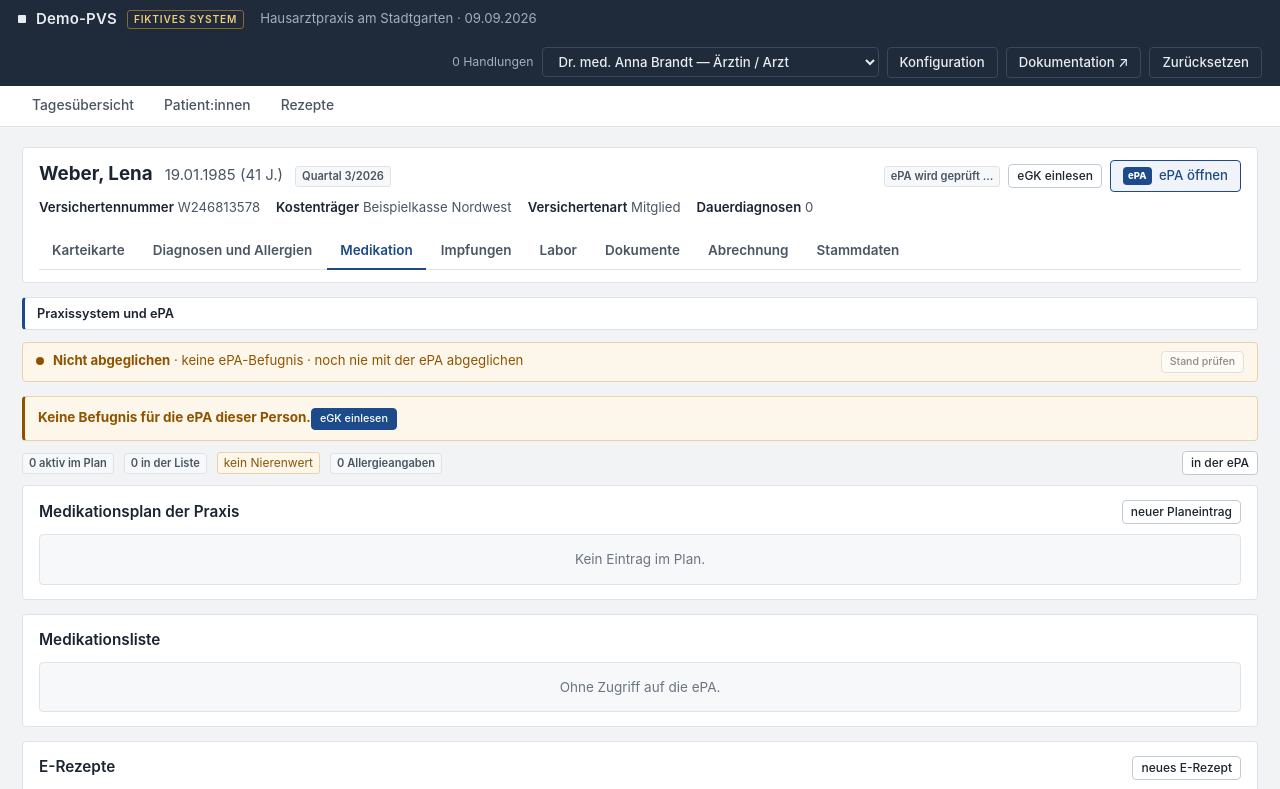
Medikationsplan der Praxis ohne Akte › öffnet „Neuer Planeintrag" erst auf Knopfdruck und beginnt danach wieder leer
Expected: the dropdown labelled "Arzneimittel suchen" is not shown
Click the button "neuer Planeintrag".
click(1181, 512)  # box [1122, 500, 1241, 524]
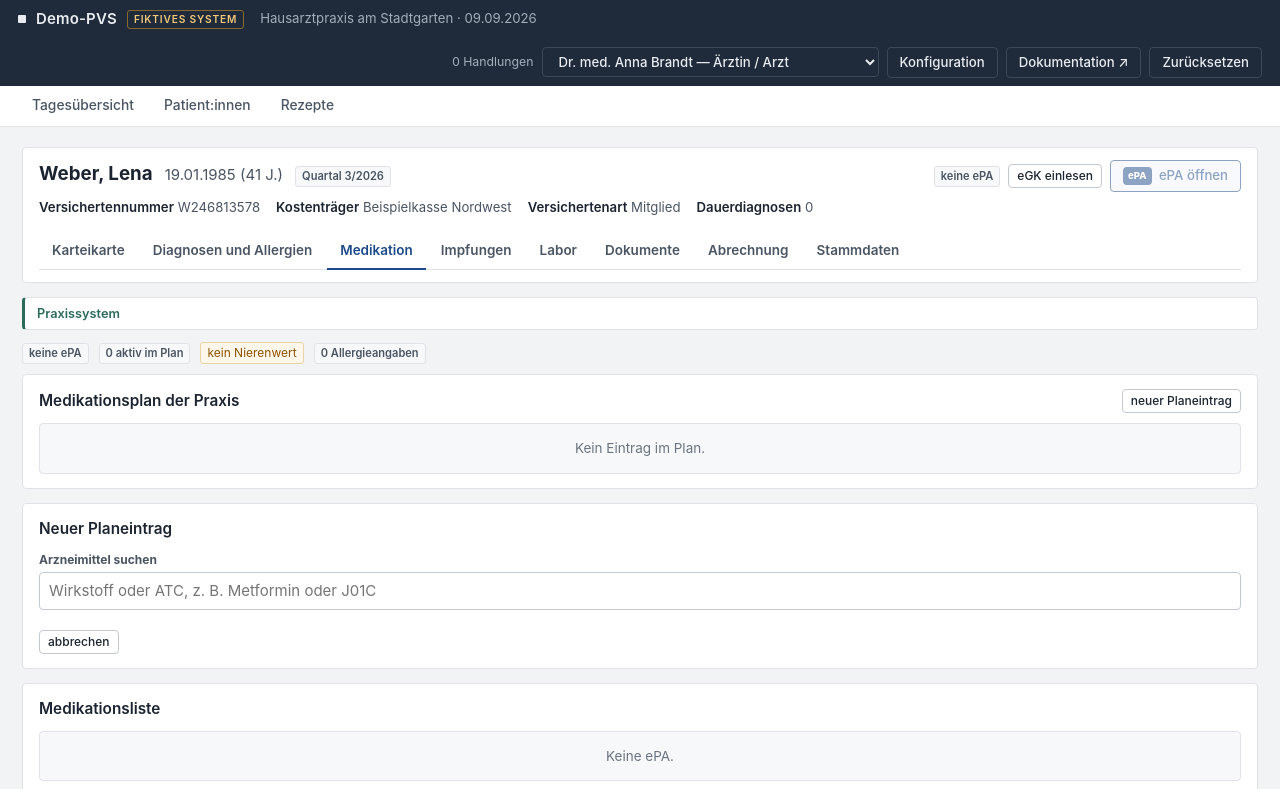
Type "Ramipril 5" into the dropdown labelled "Arzneimittel suchen".
click(640, 591); type("Ramipril 5")  # box [39, 572, 1241, 610]
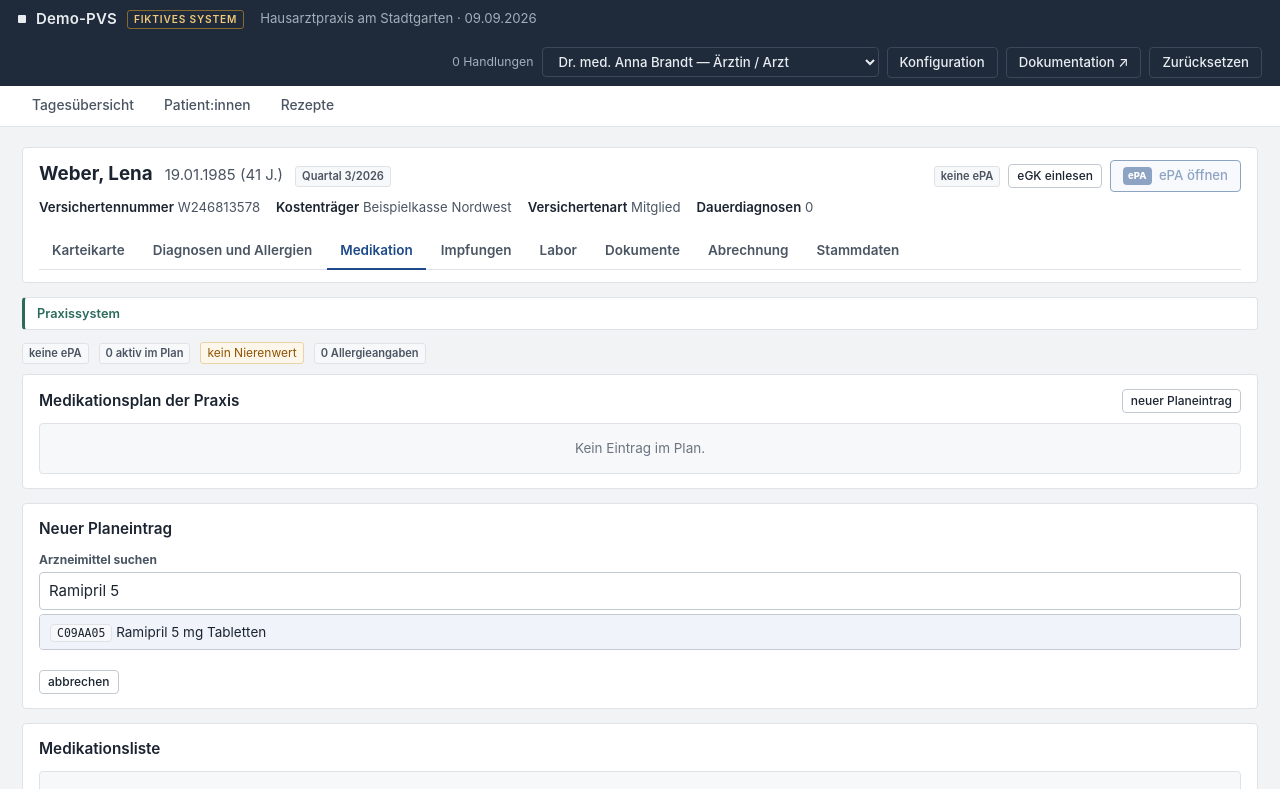
Click the option "C09AA05 Ramipril 5 mg Tabletten".
click(81, 633)  # box [40, 615, 1240, 649]
(page scrolled)
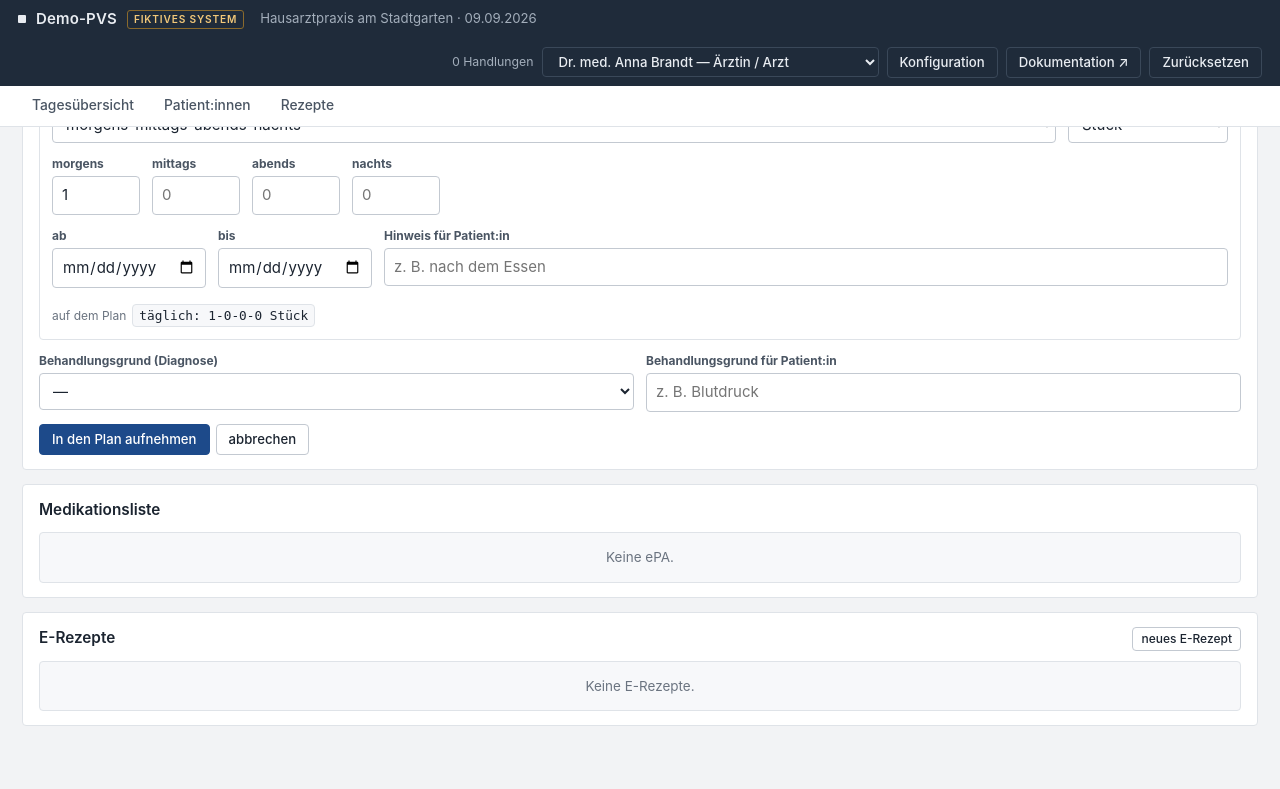
Click the button "In den Plan aufnehmen".
click(124, 440)  # box [39, 424, 210, 455]
(page scrolled)
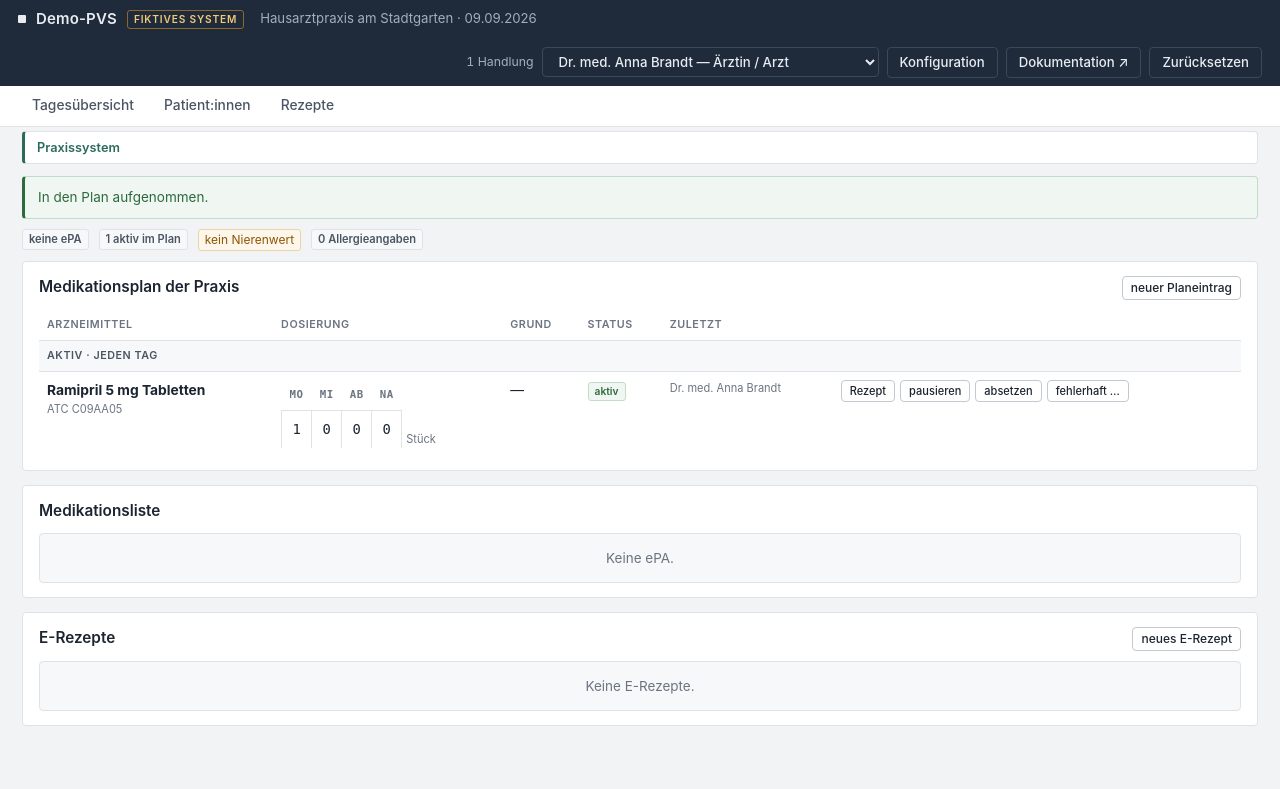
Result: the button "In den Plan aufnehmen" is gone
Click the button "neuer Planeintrag".
click(1181, 288)  # box [1122, 276, 1241, 300]
(page scrolled)
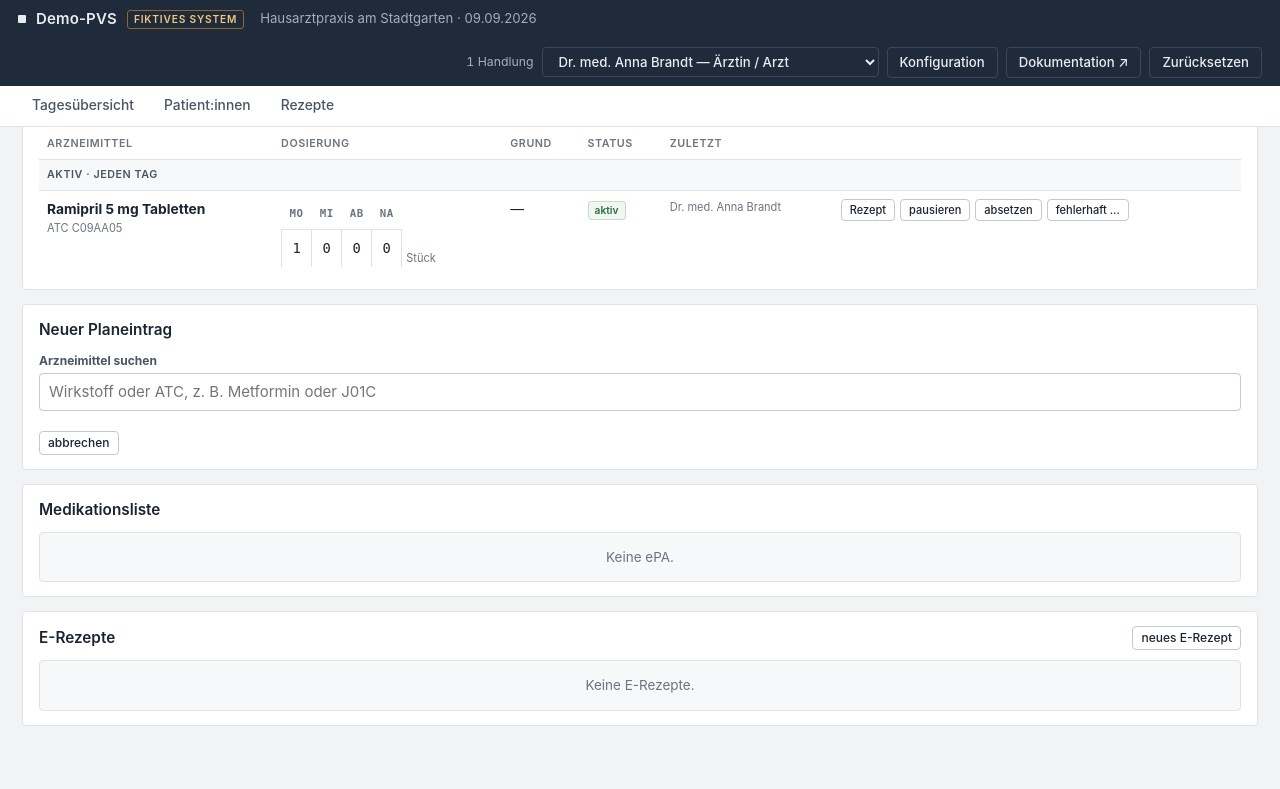
Result: the dropdown labelled "Arzneimittel suchen" is shown at [39, 373, 1241, 411]
Click the button "abbrechen".
click(79, 443)  # box [39, 431, 118, 455]
(page scrolled)
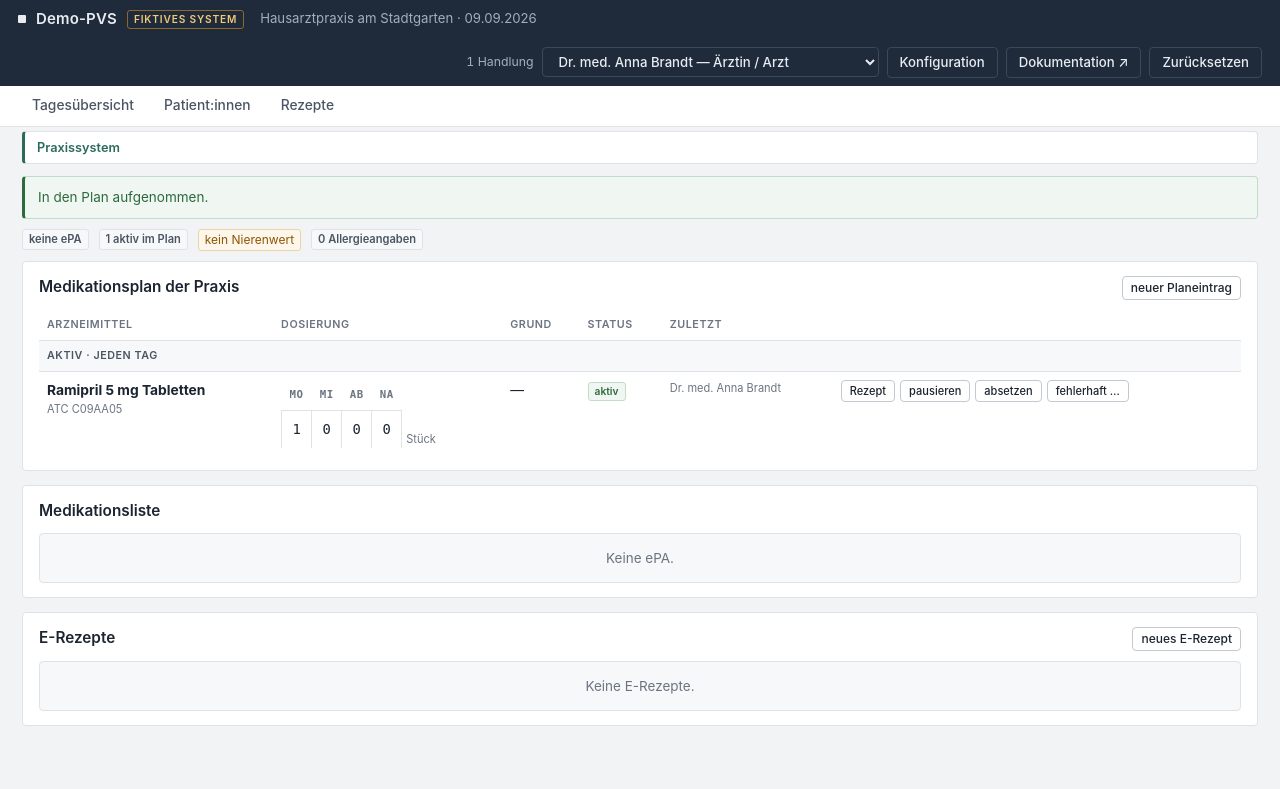
Result: the label "Arzneimittel suchen" is gone
